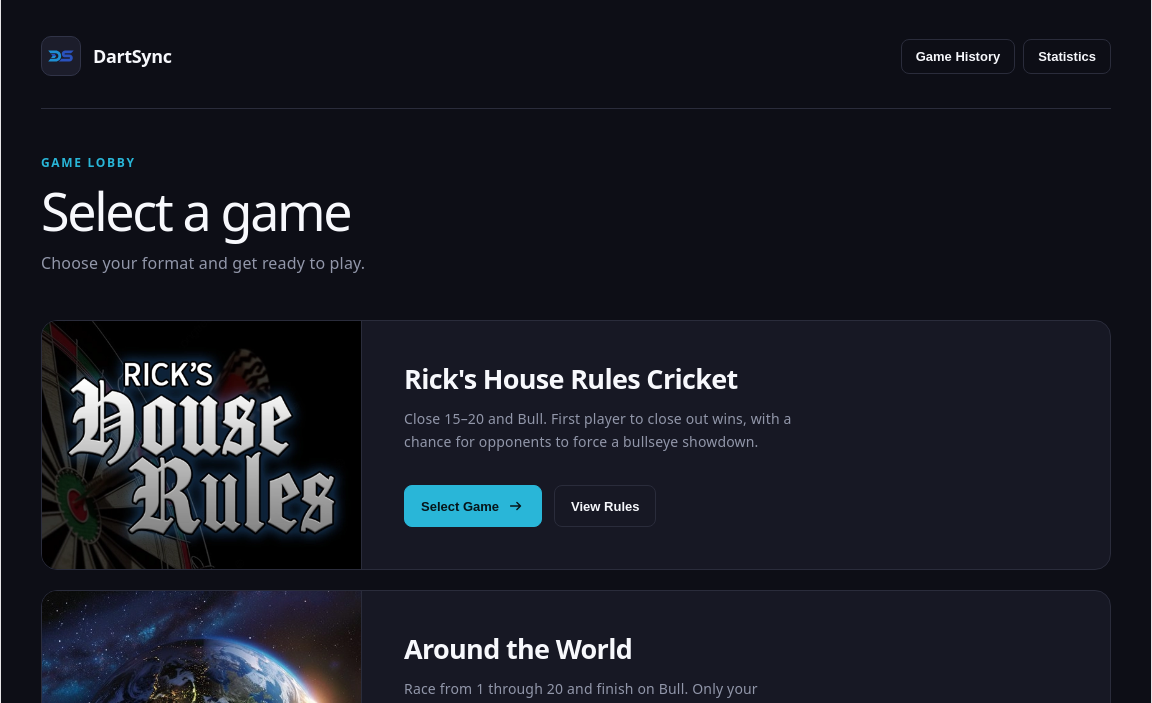
DartSync scoring flow › renders the selected game's registered rules view
expect the picture named "Rick's House Rules dartboard artwork" is shown: met, box [42, 321, 361, 569]
Click the button "View Rules".
click(605, 506)  # box [554, 485, 656, 527]
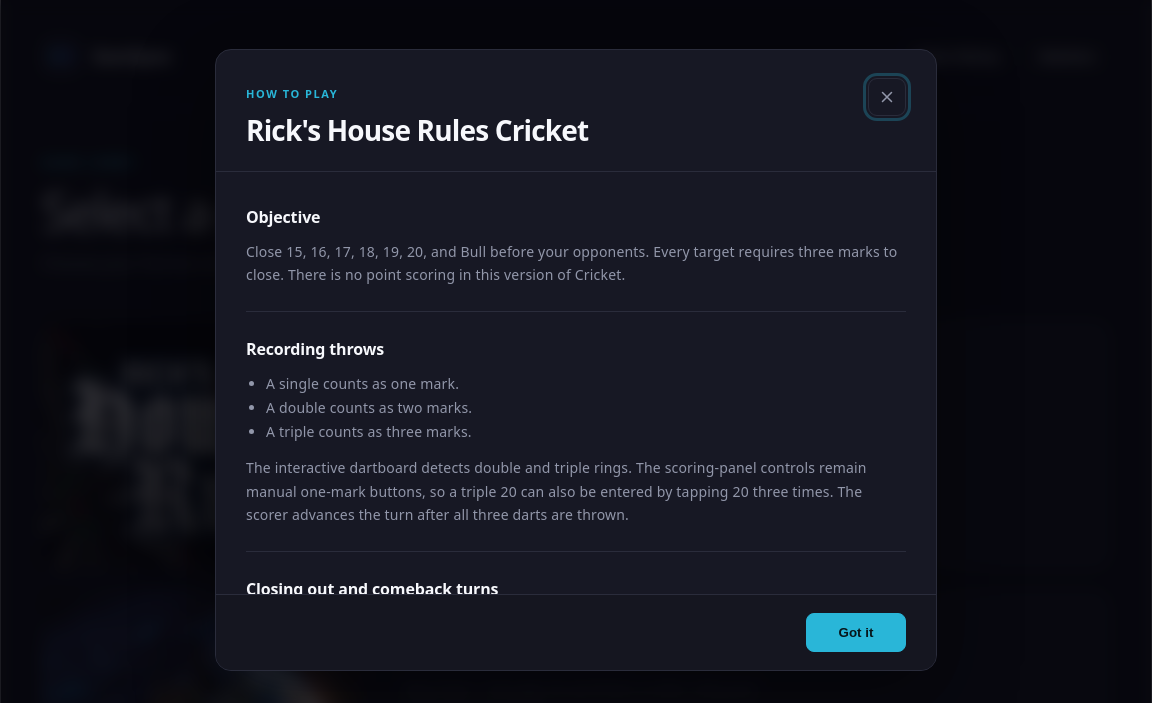
expect the dialog "Rick's House Rules Cricket" is shown: met, box [215, 49, 937, 671]
Click the button "Got it".
click(856, 632)  # box [806, 613, 906, 652]
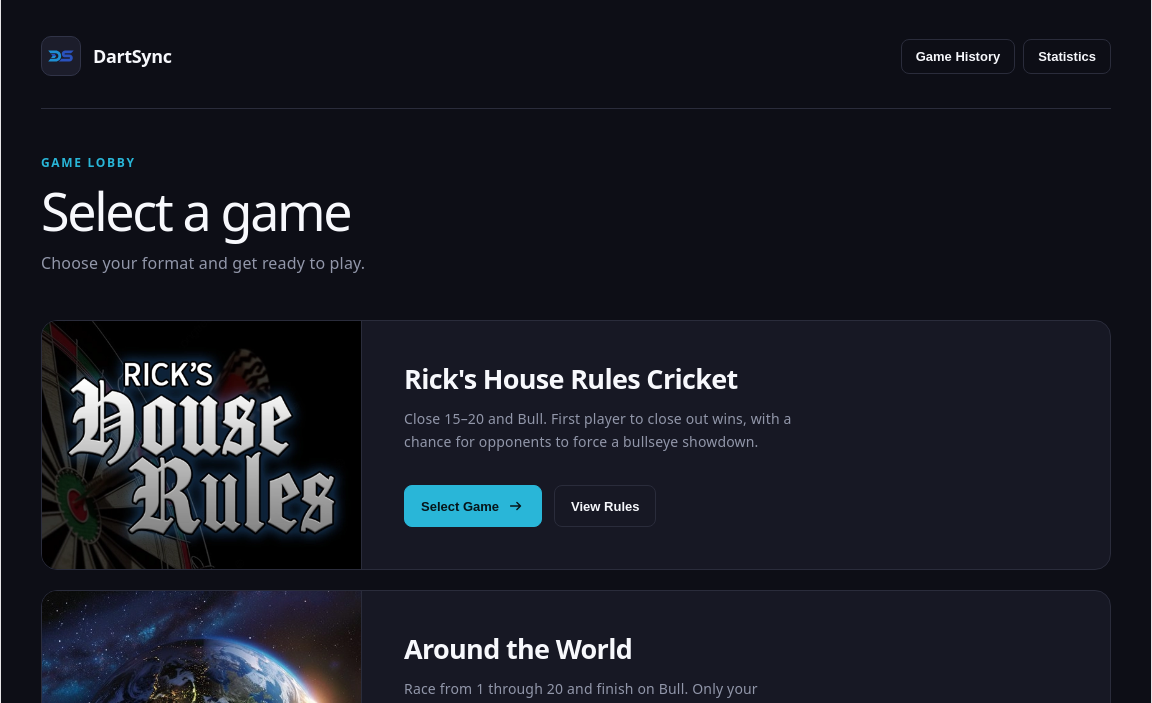
expect the dialog is gone: met
